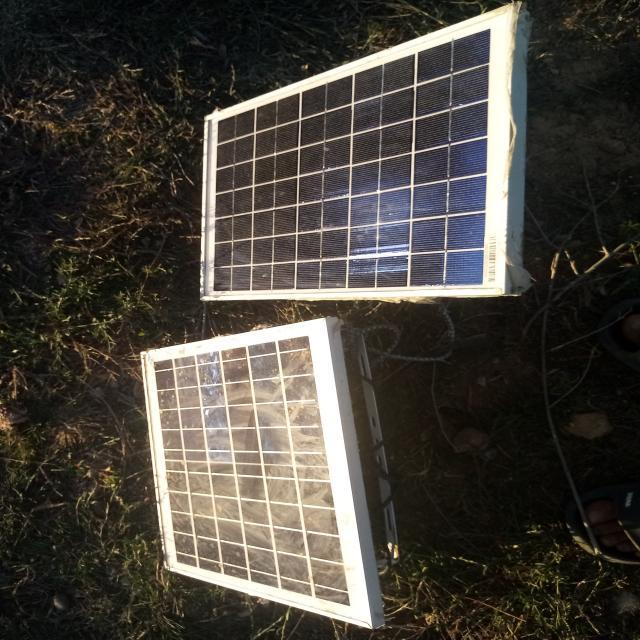faulty: (141, 319, 372, 629)
no faulty: (201, 2, 517, 292)
